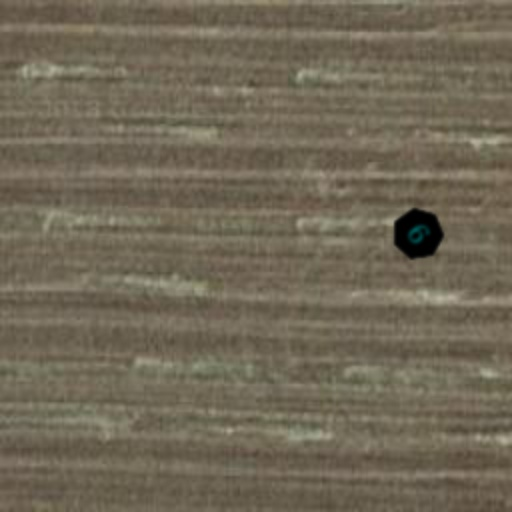heptagon: (380, 196, 456, 272)
